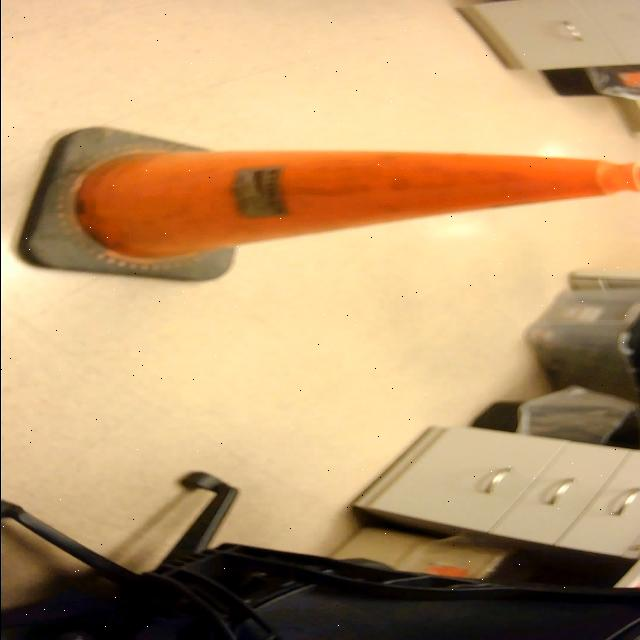traffic cone: (13, 123, 640, 287)
